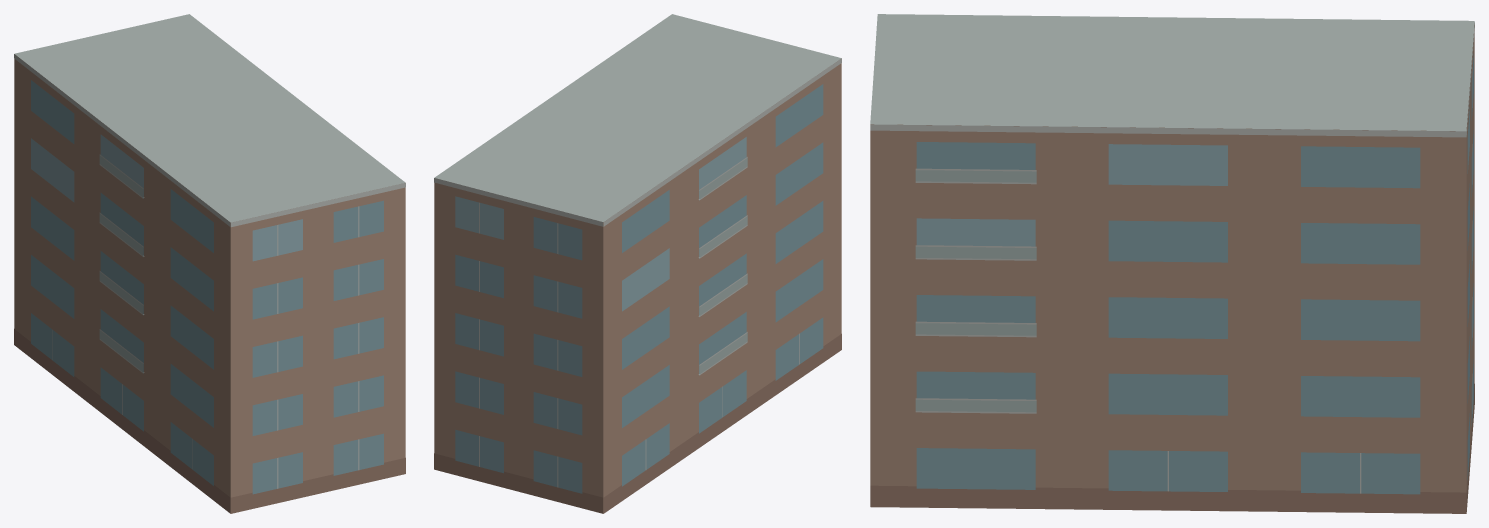
Rendered from survey-upis-32652741.glb.
3 views of the same model, side by side, from view 1: azimuth 30°, elevation 25°; view 2: azimuth 150°, elevation 25°; view 3: azimuth 270°, elevation 25° (orthographic). The views are drawn at different scales.
Visible parts, largest first — view 1: survey-upis-32652741.tmp; view 2: survey-upis-32652741.tmp; view 3: survey-upis-32652741.tmp.
Part boxes in pixels (x1,y1,x2,y2): survey-upis-32652741.tmp: (14, 14, 405, 513); survey-upis-32652741.tmp: (434, 14, 841, 513); survey-upis-32652741.tmp: (870, 14, 1474, 513).
Size of the model in its own units: 9.93 by 15.1 by 21.63.
